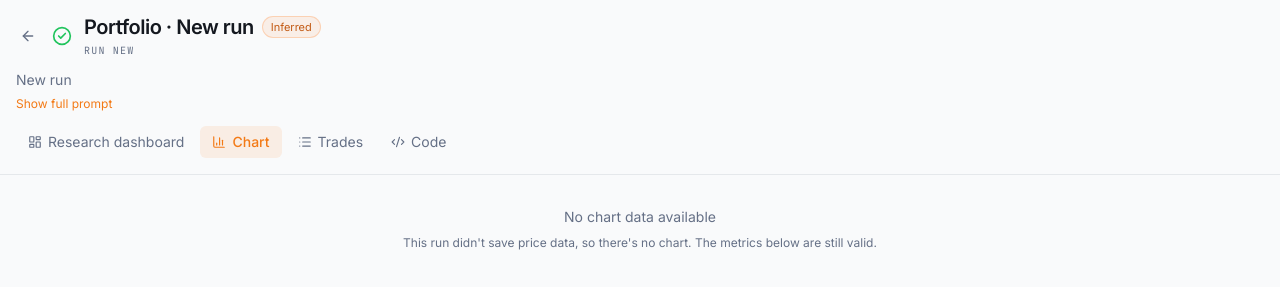
Test: RunDetail page › does not let an older route load replace the current run or code
The width and height of the screenshot is (1280, 287).
Expected: the text "New run" is shown, [16,71,72,88]
Click the tab "Code": (419, 142) [379,126,458,158]
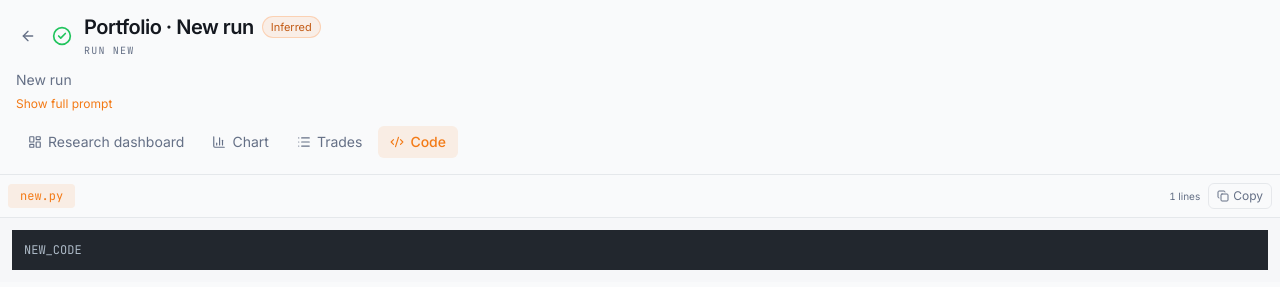
Expected: the text "NEW_CODE" is shown, [12,230,1268,270]
